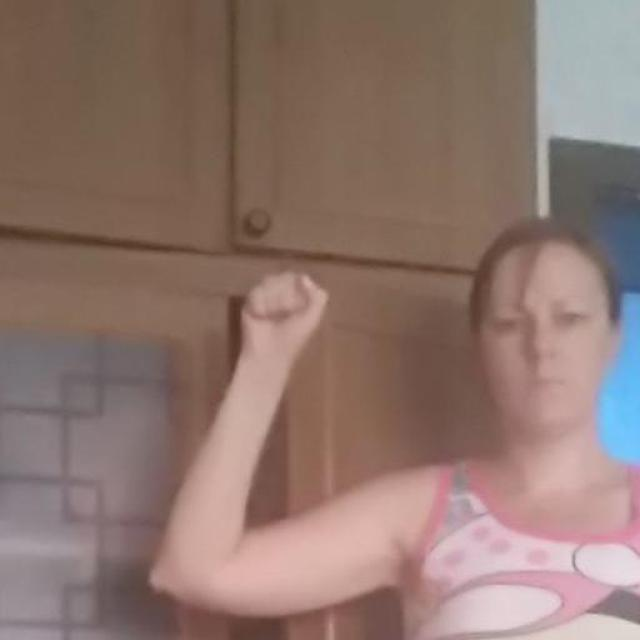hand: (238, 268, 328, 364)
